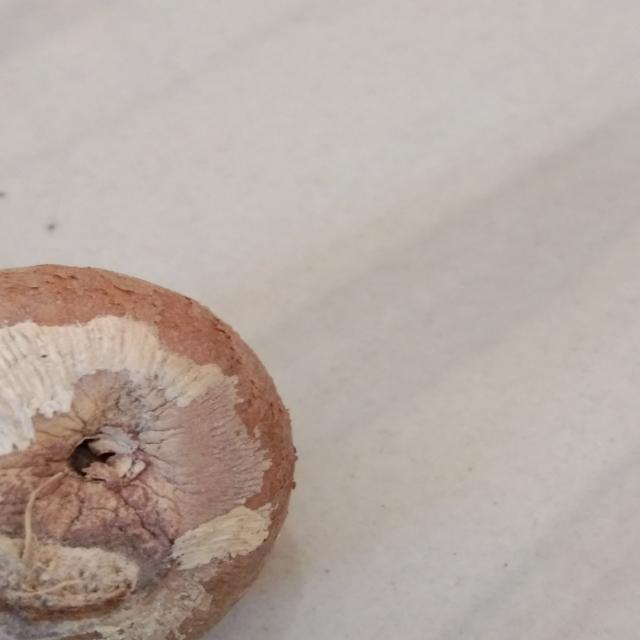phatora: (0, 247, 318, 640)
